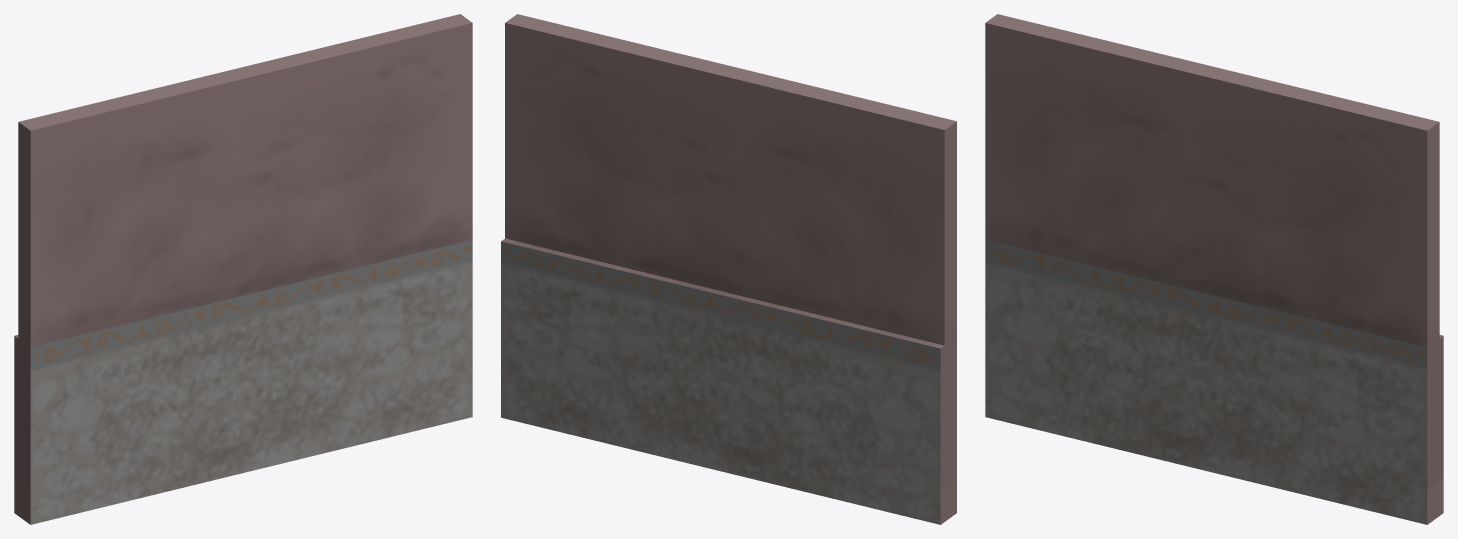
The model's file is PinkGray_ModularLowWall.fbx.
The picture shows the model from 3 angles, left to right: view 1: azimuth 30°, elevation 25°; view 2: azimuth 150°, elevation 25°; view 3: azimuth 330°, elevation 25°; orthographic projection.
Visible parts, largest first — view 1: Cube.001; view 2: Cube.001; view 3: Cube.001.
Boxes of the visible parts, left/top/right/bottom form: Cube.001: left=14, top=14, right=472, bottom=524; Cube.001: left=501, top=14, right=956, bottom=524; Cube.001: left=985, top=14, right=1443, bottom=524.
Size of the model in its own units: 4.14 by 3.53 by 0.2635.
